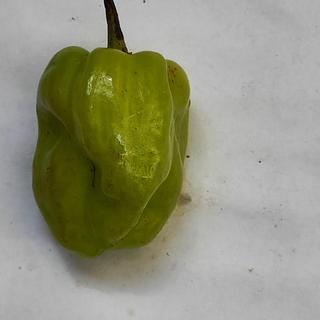Grade-A: (28, 41, 195, 261)
